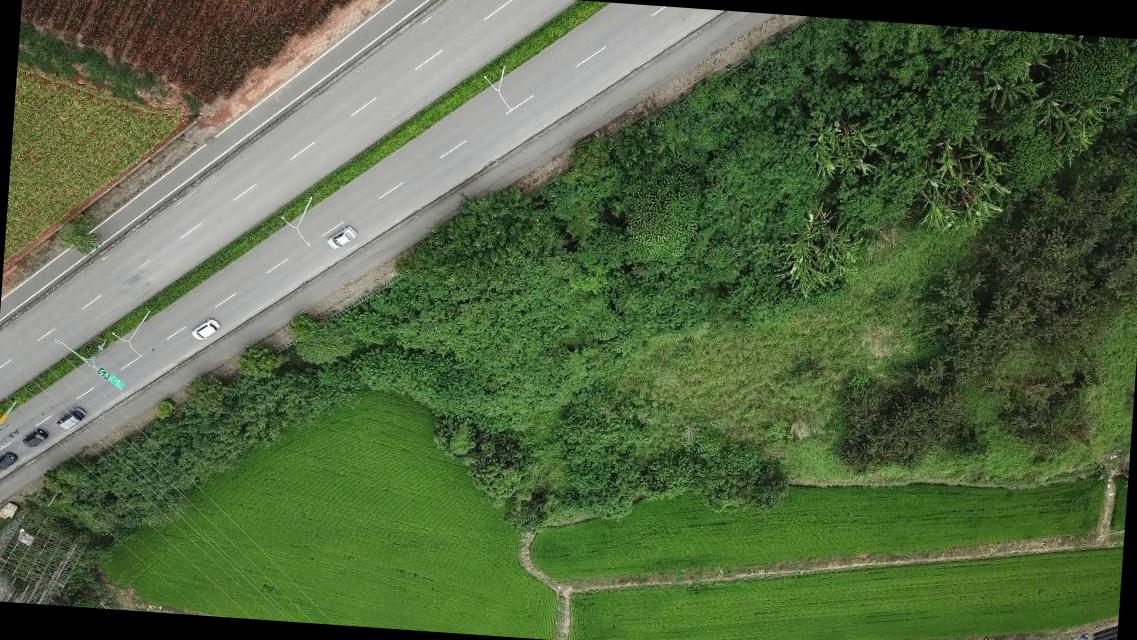vehicle: (55, 402, 87, 430), (325, 224, 357, 251), (192, 318, 221, 342), (21, 427, 48, 450), (0, 451, 18, 474)
